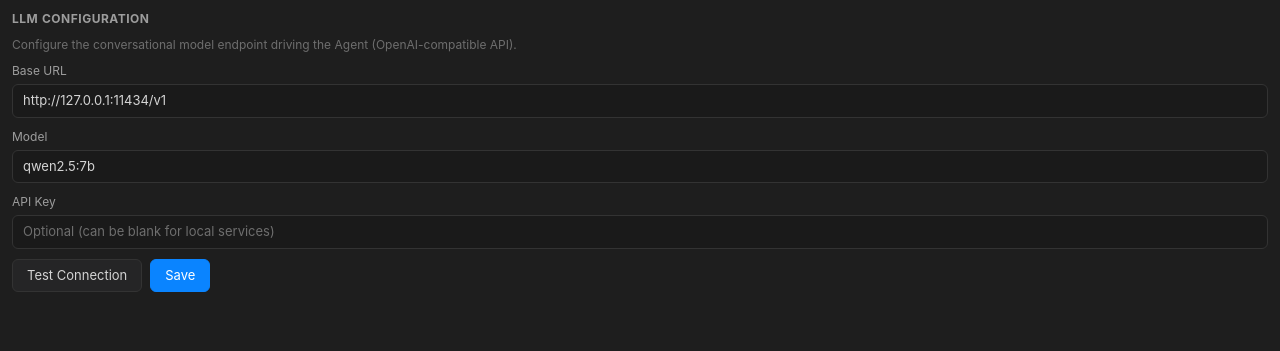
Test case: SettingsPanel › reports the connection-probe result inline
Expected: the field with test id "input-base-url" is shown, 12,84 -> 1268,118
Click the button with test id "btn-test-settings" at (77, 275), box 12,258 -> 142,292
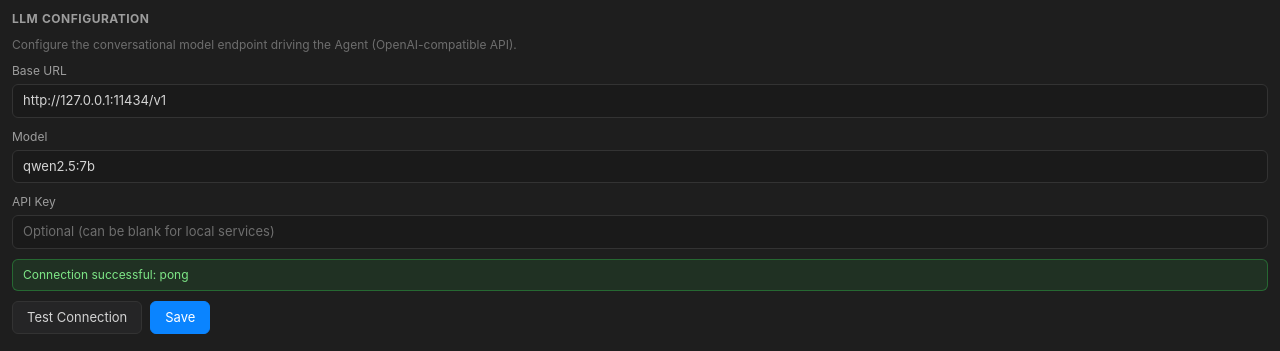
Result: the message with test id "settings-notice" shows "Connection successful" at 23,266 -> 189,282
